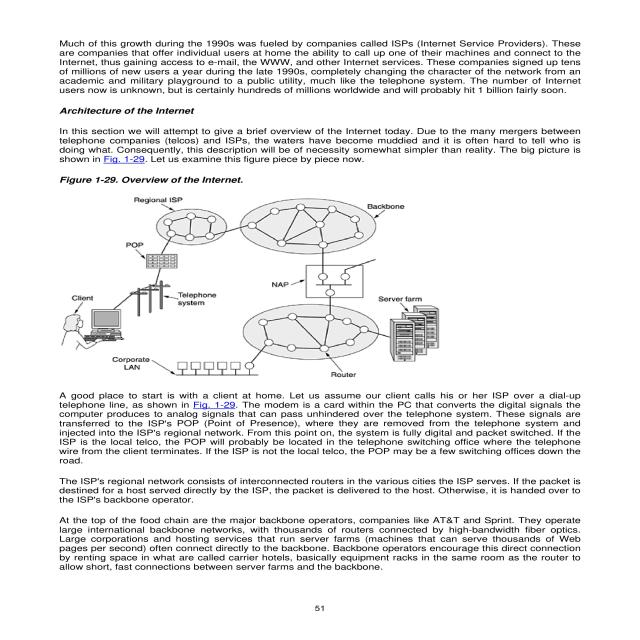diagram: (31, 177, 526, 383)
